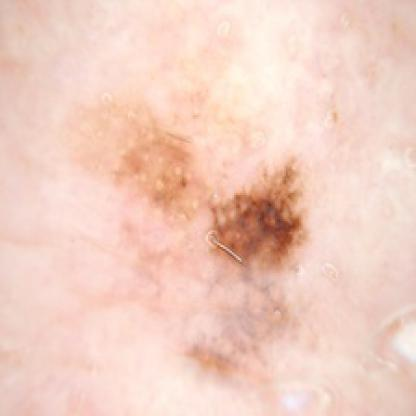malignant: (111, 122, 338, 292)
